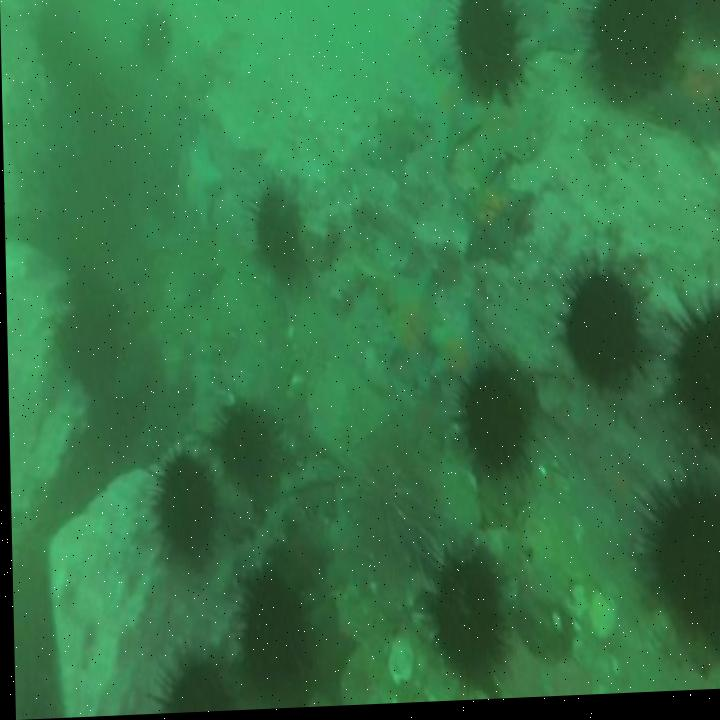echinus: (648, 492, 720, 642), (589, 0, 684, 102), (432, 557, 502, 691), (563, 275, 639, 390), (356, 457, 419, 571), (239, 578, 305, 682), (151, 453, 212, 561), (55, 298, 118, 402), (675, 304, 720, 446), (456, 0, 524, 93), (464, 373, 524, 471), (216, 407, 267, 485), (252, 189, 297, 277), (158, 658, 227, 715), (137, 7, 169, 63)
starfish: (409, 68, 479, 169), (460, 166, 535, 258), (473, 90, 541, 186), (381, 264, 435, 373), (301, 600, 351, 706), (658, 62, 720, 146), (429, 305, 489, 381), (181, 129, 223, 230), (372, 103, 413, 183), (184, 248, 222, 312)
